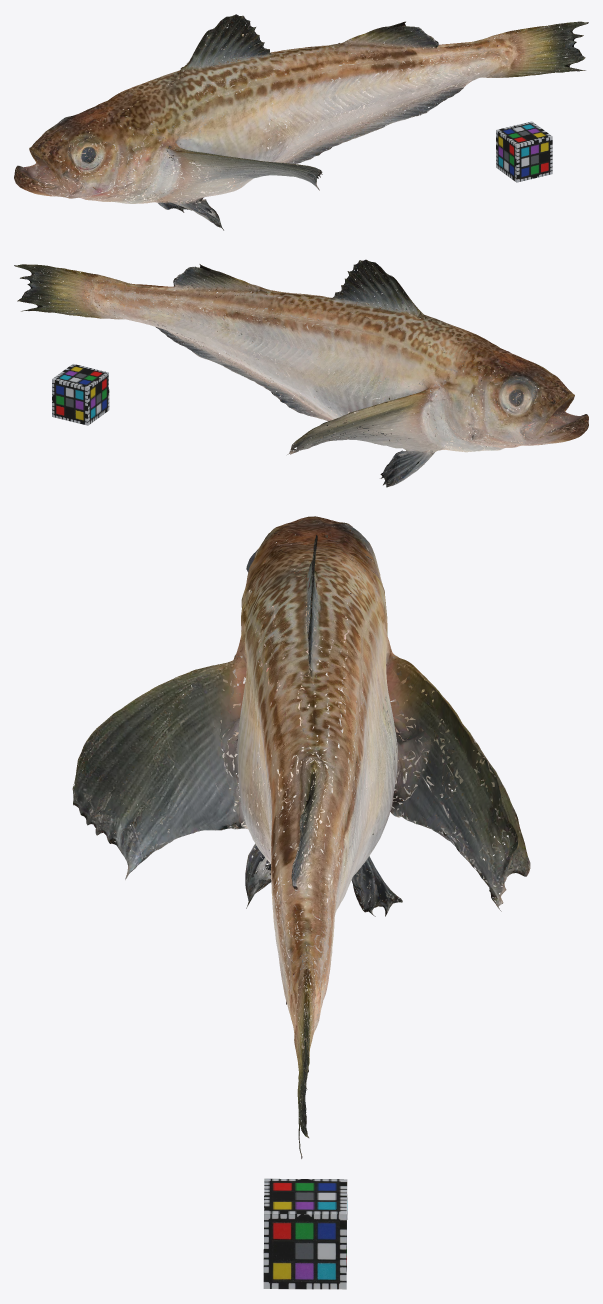
The model's file is scan_sandfish.glb.
3 renders of one model, top to bottom at view 1: azimuth 30°, elevation 25°; view 2: azimuth 150°, elevation 25°; view 3: azimuth 270°, elevation 25°, orthographic. The views are drawn at different scales.
Visible parts, largest first — view 1: Object_6, Object_11, Object_4; view 2: Object_11, Object_6, Object_4; view 3: Object_6, Object_11, Object_4.
Part boxes in pixels (x1=…): Object_6: x1=14, y1=15, x2=588, y2=225; Object_11: x1=14, y1=14, x2=585, y2=230; Object_4: x1=496, y1=121, x2=552, y2=182; Object_11: x1=19, y1=260, x2=588, y2=486; Object_6: x1=14, y1=259, x2=588, y2=487; Object_4: x1=52, y1=364, x2=109, y2=425; Object_6: x1=72, y1=516, x2=527, y2=1157; Object_11: x1=73, y1=524, x2=530, y2=1158; Object_4: x1=263, y1=1178, x2=347, y2=1289.
Size of the model in its own units: 9.46 by 3.55 by 3.28.
Materials: 3 (3 with a texture image).
